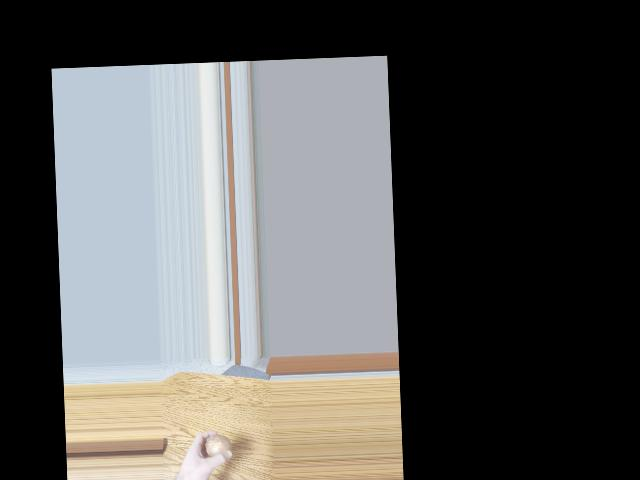onion: (205, 433, 230, 460)
